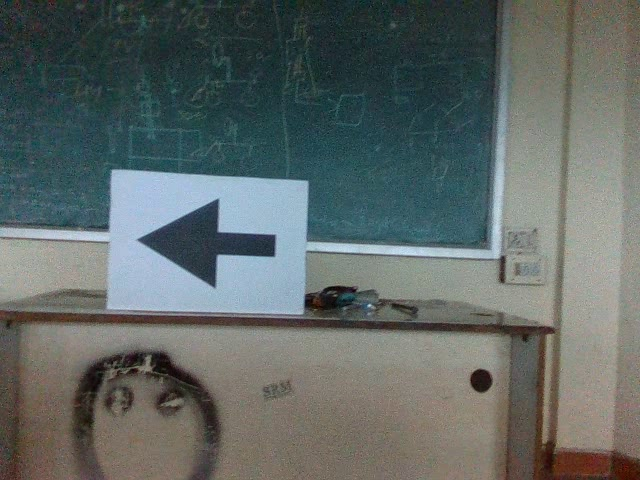Left: (129, 189, 278, 294)
